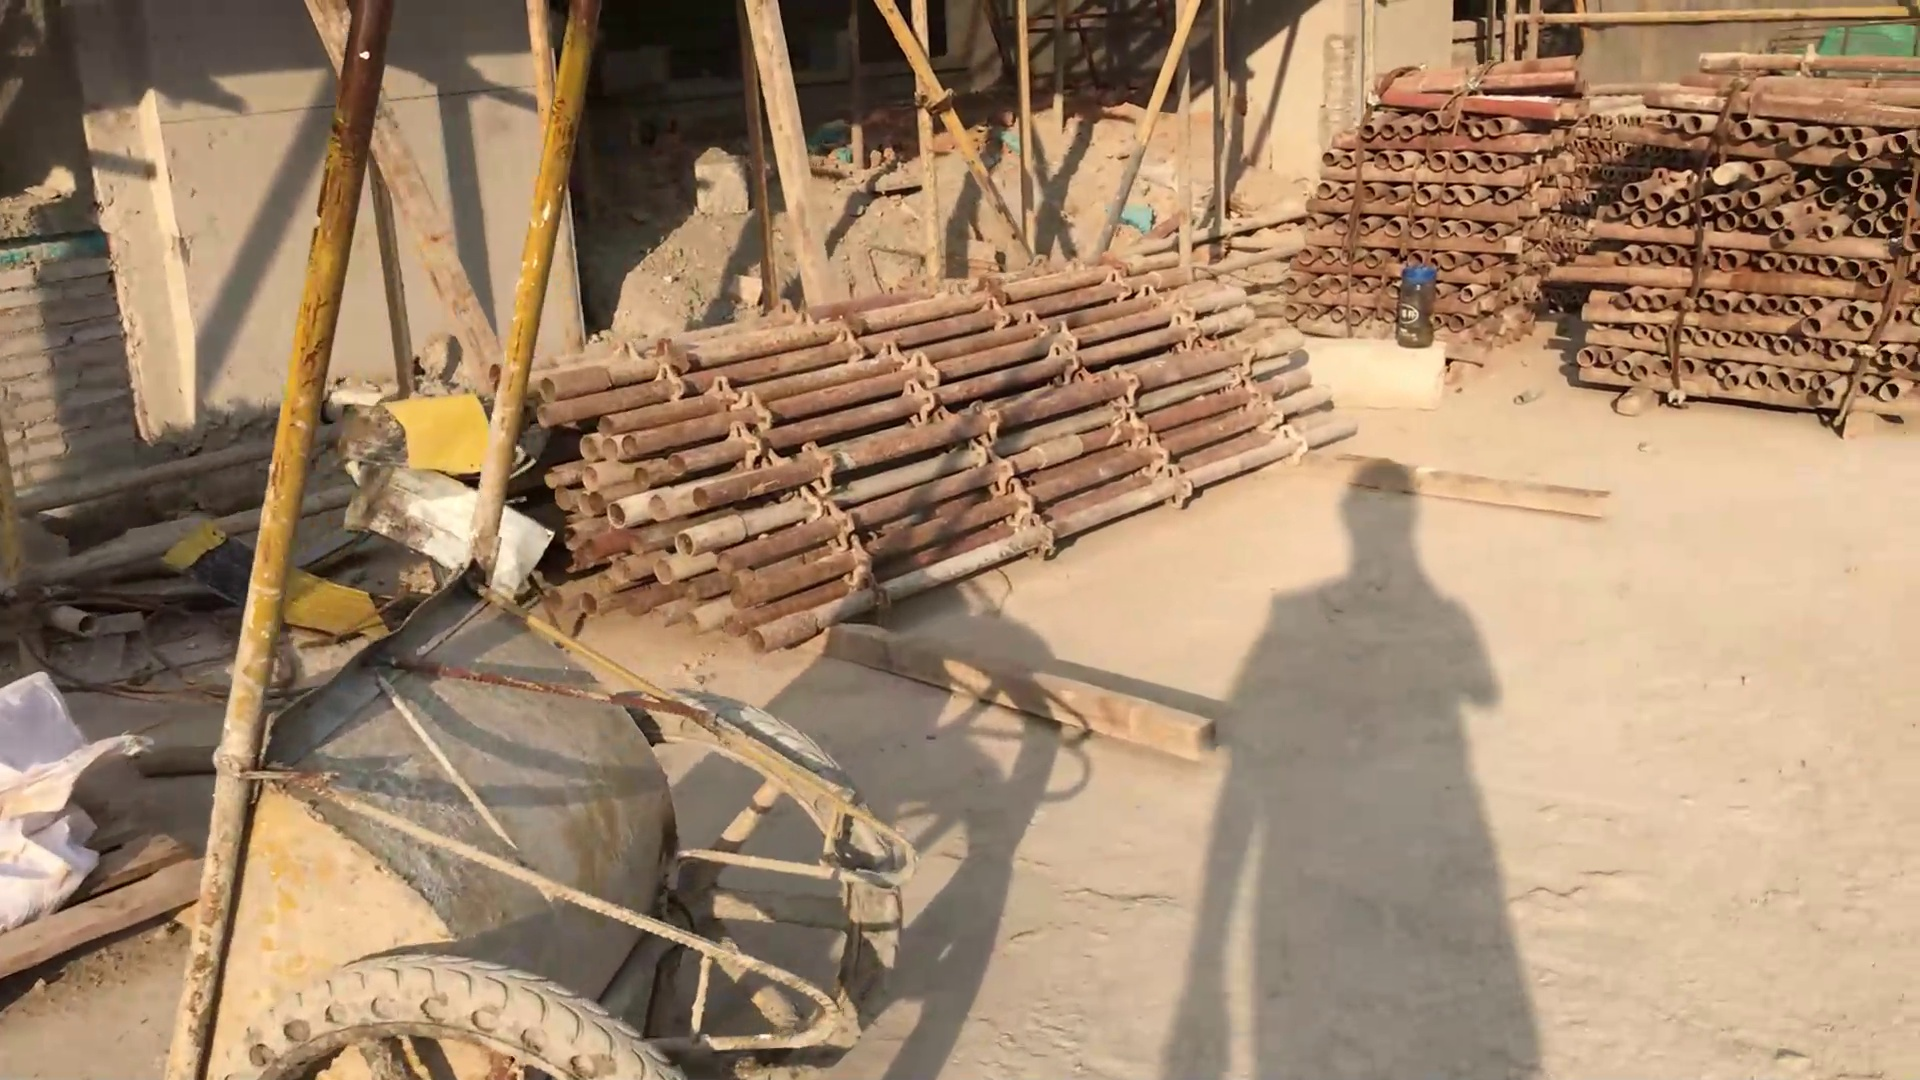handcart: (160, 1, 926, 1079)
scaffold: (520, 251, 1321, 630), (1582, 65, 1920, 392), (1283, 61, 1593, 334)
